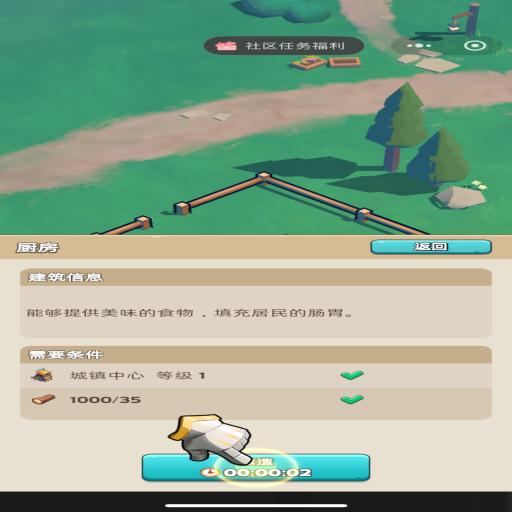newcomer_hand: (168, 414, 252, 464)
